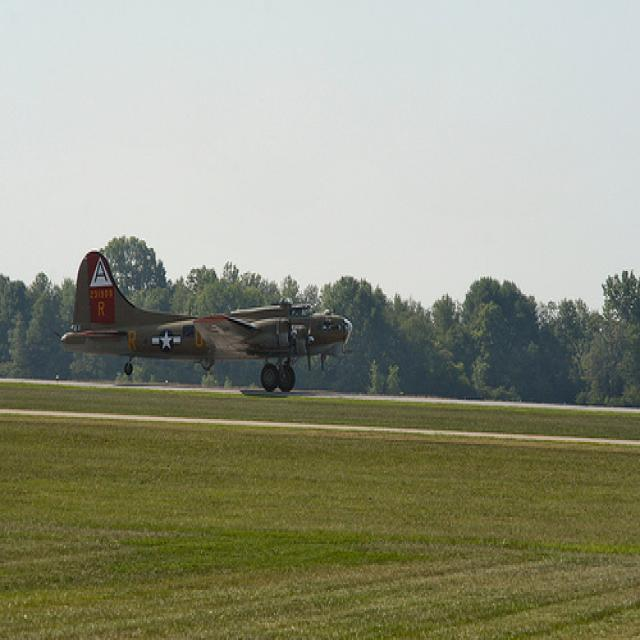aeroplane: (61, 251, 352, 399)
